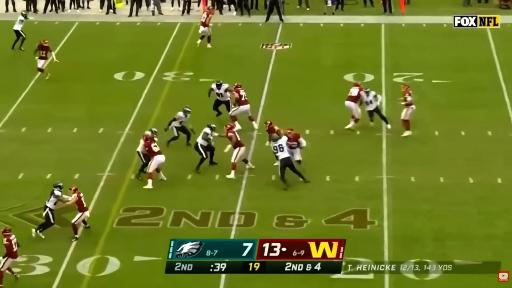Helmet: (2, 226, 12, 236), (143, 132, 153, 141), (69, 186, 78, 195), (224, 123, 234, 131), (54, 182, 63, 190), (215, 81, 223, 89), (183, 106, 191, 114), (401, 84, 410, 91), (148, 128, 157, 135), (207, 124, 216, 131), (21, 10, 28, 19), (271, 134, 280, 141), (40, 39, 48, 46), (401, 83, 410, 89), (287, 128, 294, 135), (69, 187, 78, 192), (265, 121, 272, 127), (144, 131, 152, 136), (354, 82, 361, 87), (207, 7, 214, 12), (235, 83, 241, 88), (364, 88, 370, 93), (207, 6, 213, 9)
Jersey: (272, 136, 290, 159), (3, 235, 18, 258), (363, 91, 381, 110), (227, 130, 244, 149), (46, 189, 62, 209), (144, 141, 162, 158), (212, 84, 230, 101), (287, 133, 306, 149), (74, 191, 88, 212), (197, 128, 212, 146), (171, 112, 190, 126), (346, 87, 362, 103), (235, 88, 249, 106), (37, 44, 51, 60), (403, 90, 414, 107), (201, 12, 212, 27), (14, 16, 25, 30), (137, 135, 144, 152), (266, 125, 278, 134)
Player: (271, 134, 309, 189), (32, 183, 69, 238), (225, 124, 254, 178), (65, 187, 90, 241), (230, 83, 257, 130), (194, 124, 218, 173), (165, 106, 194, 146), (144, 136, 166, 188), (363, 89, 391, 128), (0, 227, 18, 287), (136, 129, 157, 179), (345, 82, 364, 129), (208, 81, 232, 116), (35, 40, 58, 73), (401, 84, 415, 136), (197, 7, 214, 48), (287, 129, 306, 164), (12, 11, 28, 50), (264, 121, 282, 145)
